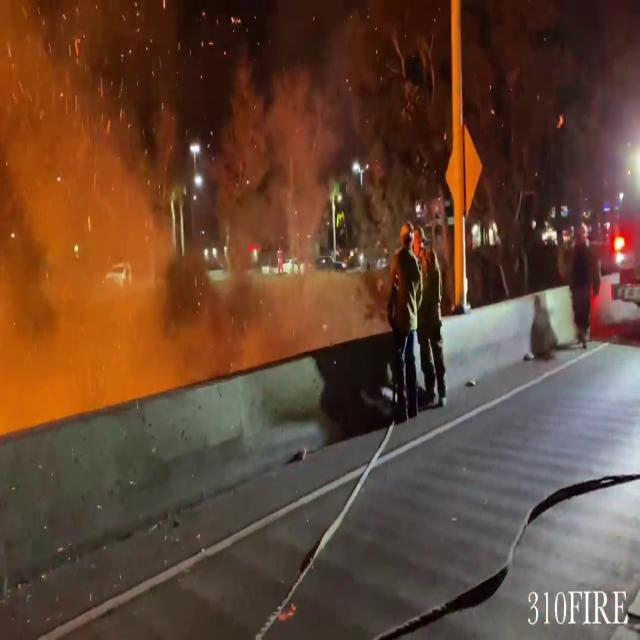Smoke: (0, 0, 190, 422), (208, 38, 349, 354)
